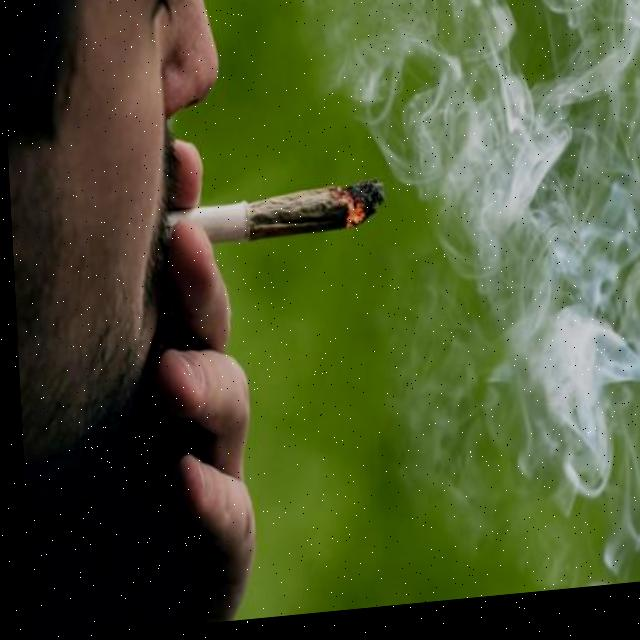cigarette: (162, 185, 384, 253)
